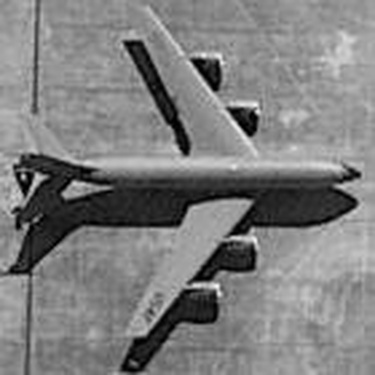airplane: (6, 1, 367, 359)
